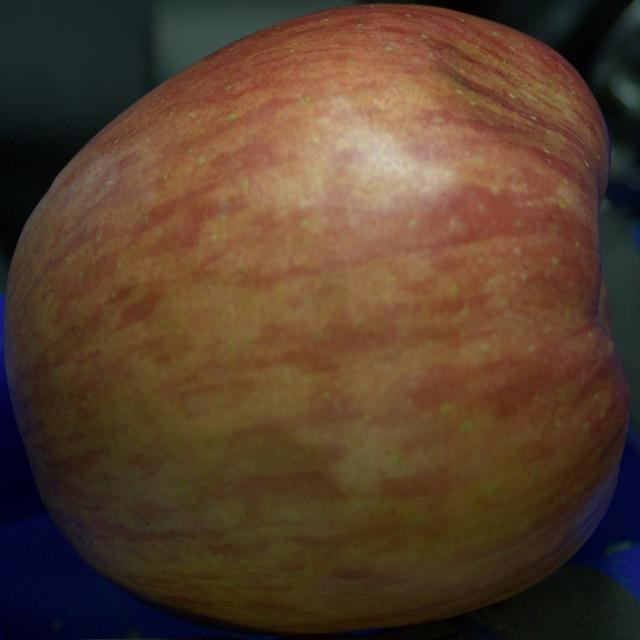apple: (4, 4, 629, 633)
bruise: (432, 30, 569, 144), (211, 424, 342, 532)
